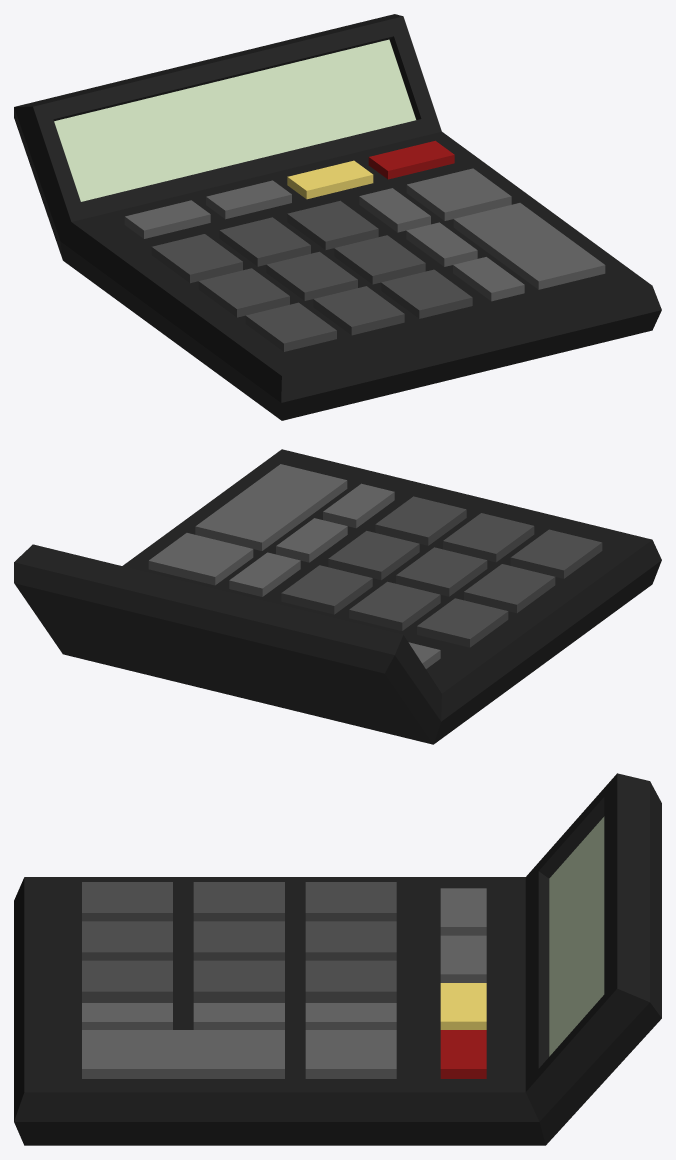
The model's file is Calculator.fbx.
3 renders of one model, top to bottom at view 1: azimuth 30°, elevation 25°; view 2: azimuth 150°, elevation 25°; view 3: azimuth 270°, elevation 25°, orthographic. The views are drawn at different scales.
Visible parts, largest first — view 1: Calculator; view 2: Calculator; view 3: Calculator.
Boxes of the visible parts, x1,y1,x2,y2 form: Calculator: (14, 14, 661, 420); Calculator: (14, 449, 661, 744); Calculator: (14, 773, 661, 1145).
Bounding box in the file's own units: 7.02 × 2.33 × 8.69.
